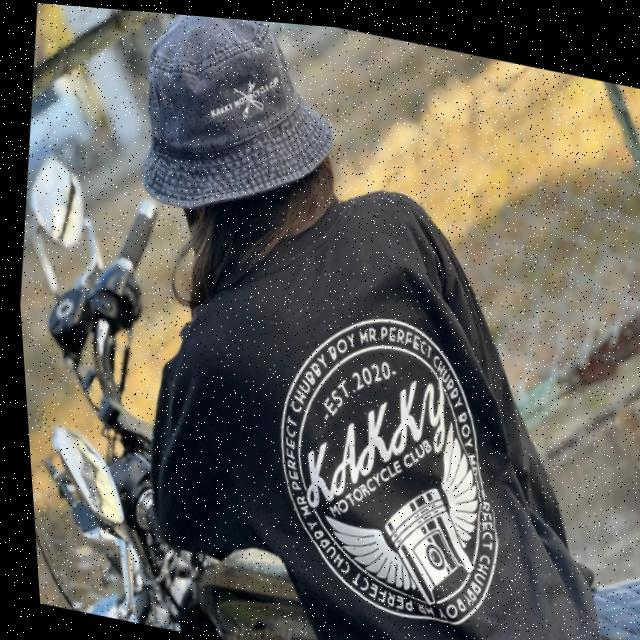illegal_helmet: (117, 7, 354, 240)
